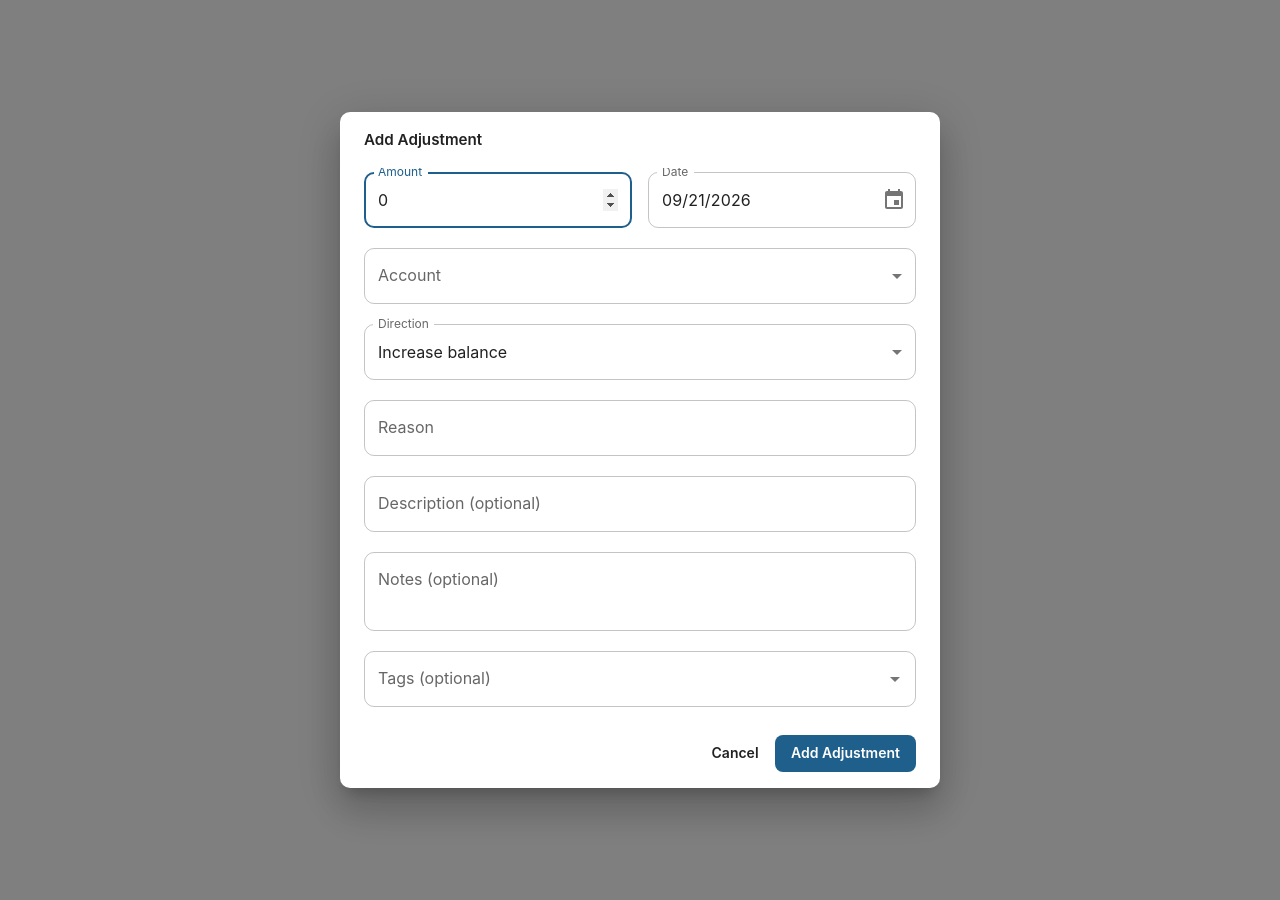
Test: AdjustmentFormDialog › shows a validation error and does not submit without an account
Replace the text in the number field labelled "Amount" with "100". click: x=498, y=200
box: x1=364 y1=172 x2=632 y2=228
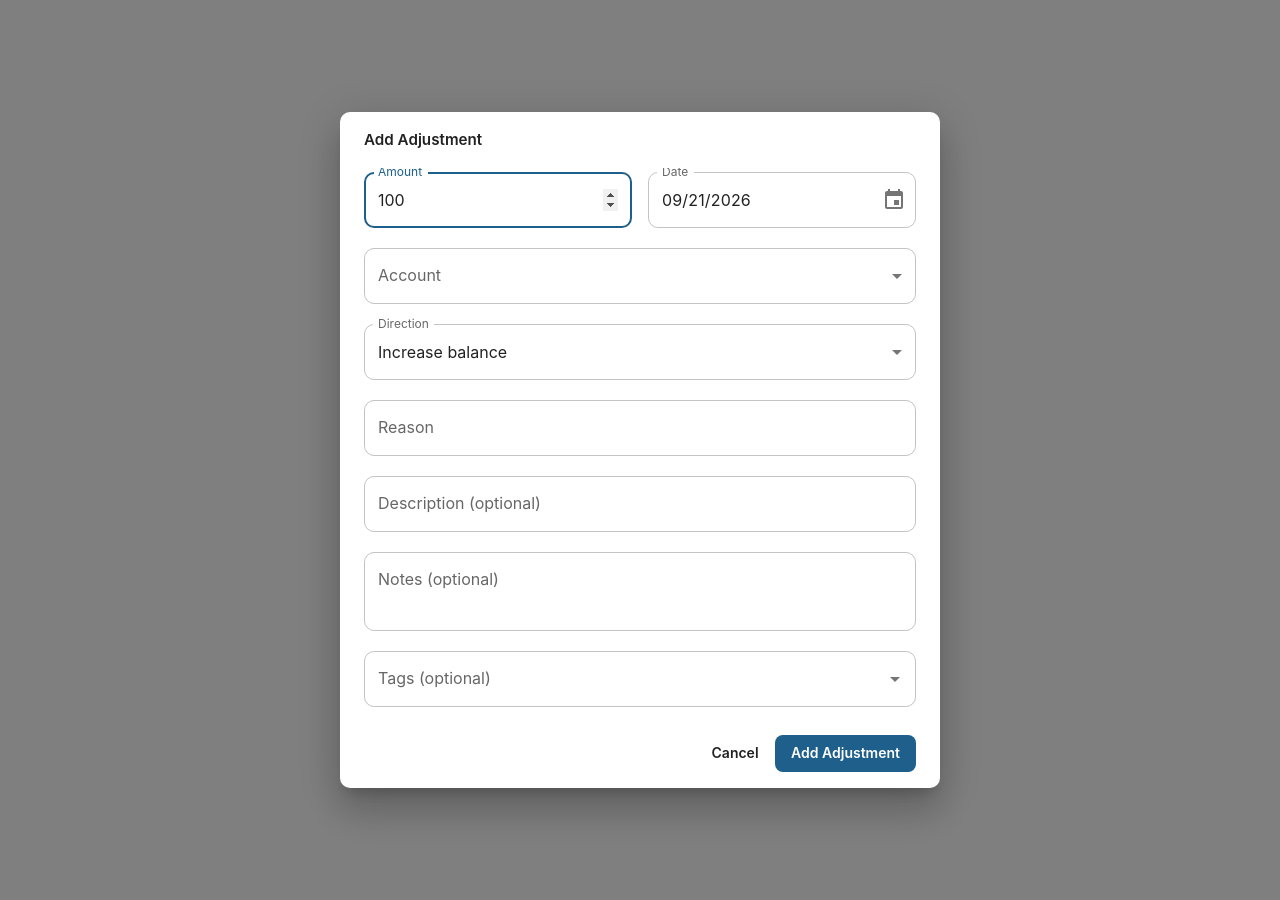
Type "Cash count" into the field labelled "Reason". click: x=640, y=428
box: x1=364 y1=400 x2=916 y2=456
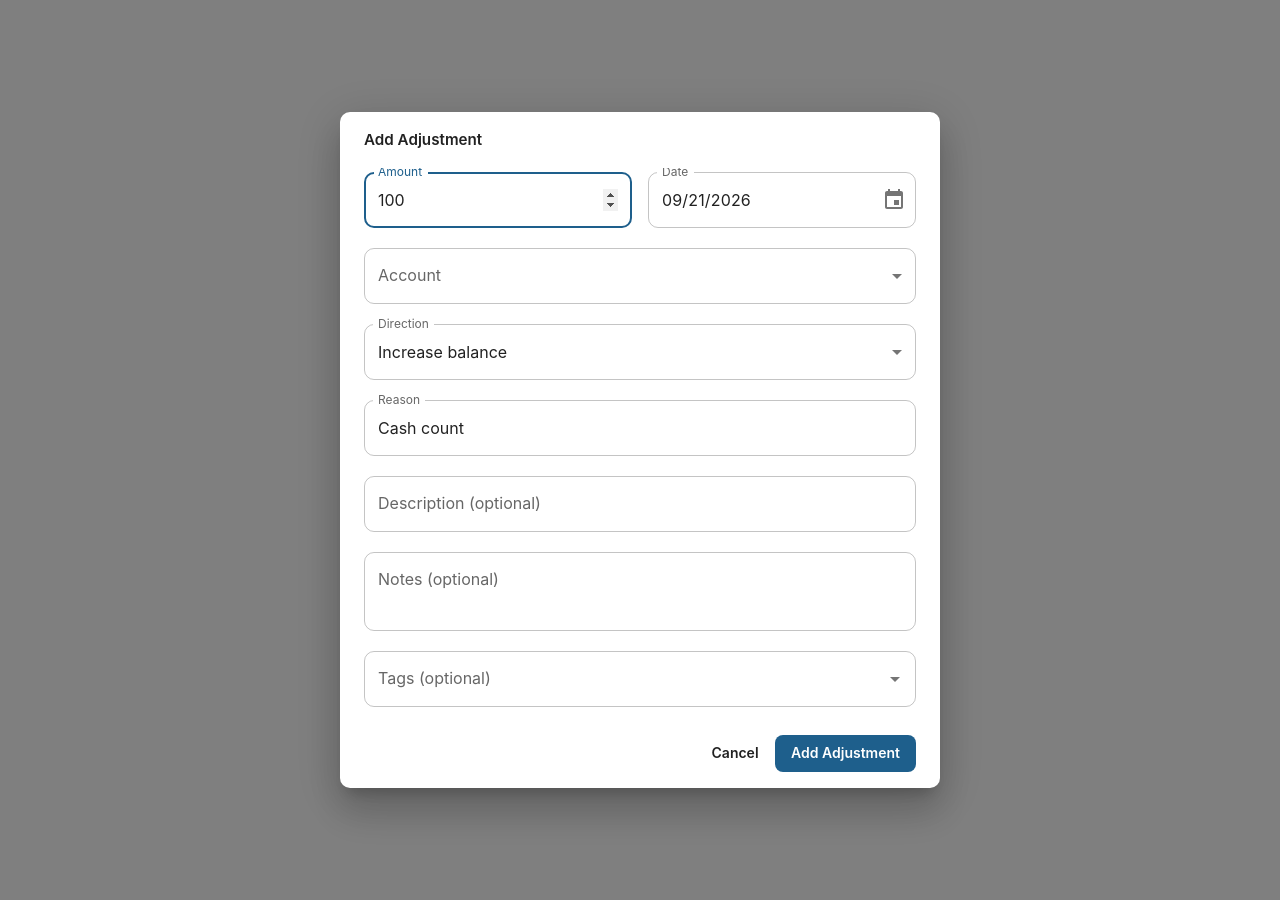
Click the button "Add Adjustment". click: x=846, y=754
box: x1=775 y1=735 x2=916 y2=772
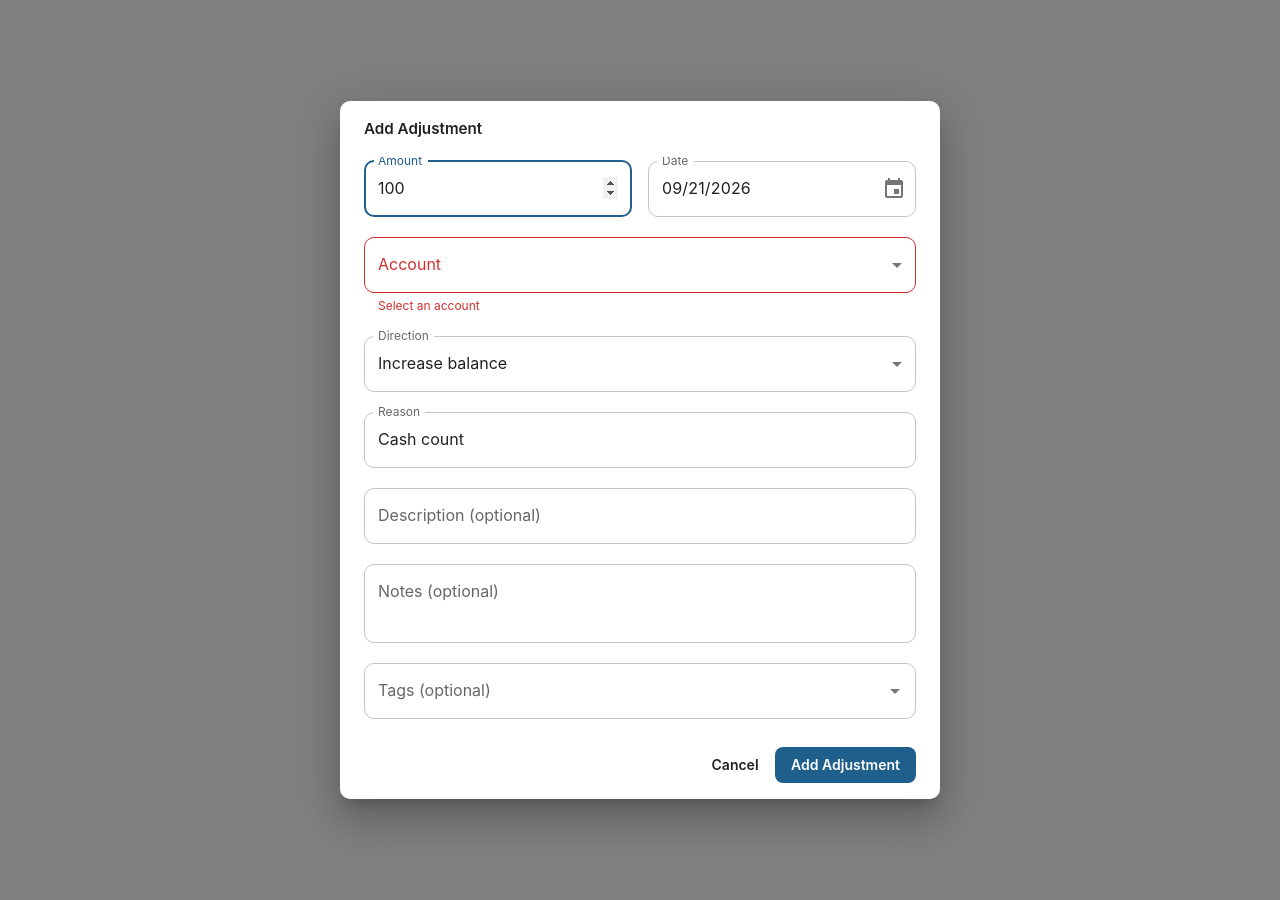
Result: the text "Select an account" is shown at x1=378 y1=298 x2=480 y2=313
